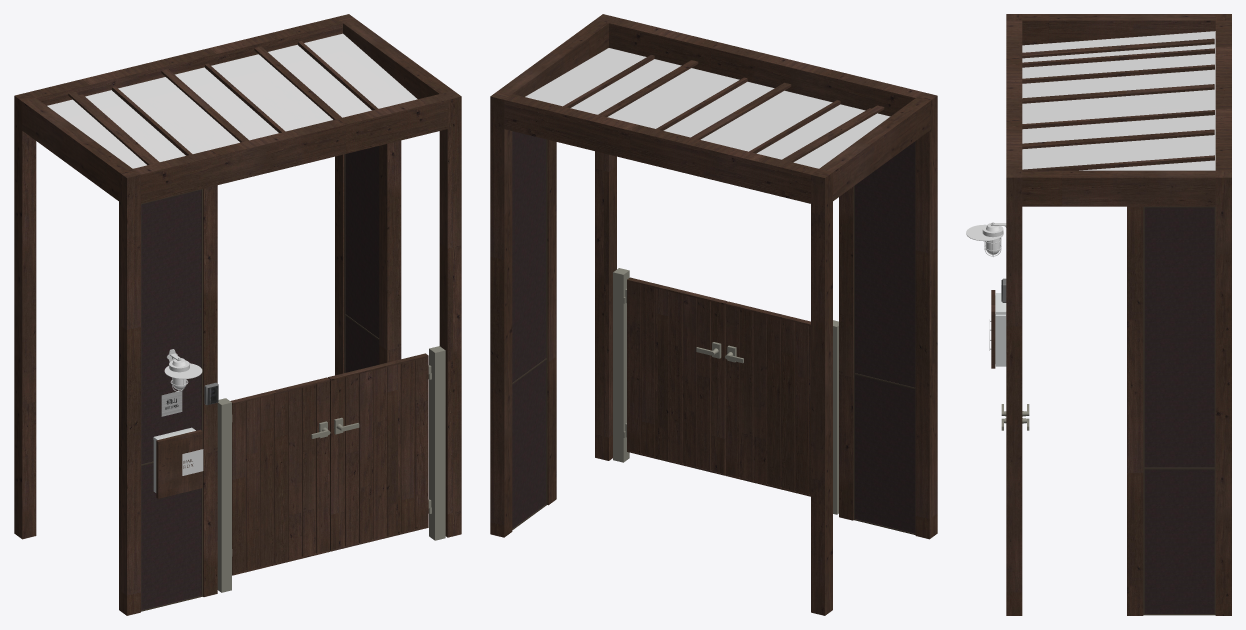
File: hy1_darkpine.fbx
3 views of the same model, side by side, from view 1: azimuth 30°, elevation 25°; view 2: azimuth 150°, elevation 25°; view 3: azimuth 270°, elevation 25° (orthographic).
Parts seen in each view (by area): view 1: hy1-darkpine; view 2: hy1-darkpine; view 3: hy1-darkpine.
Part boxes in pixels (bbox=[...]): hy1-darkpine: bbox=[14, 14, 461, 615]; hy1-darkpine: bbox=[490, 14, 937, 615]; hy1-darkpine: bbox=[966, 14, 1231, 615].
Size of the model in its own units: 240 by 300 by 165.
16 materials, 8 textured.
